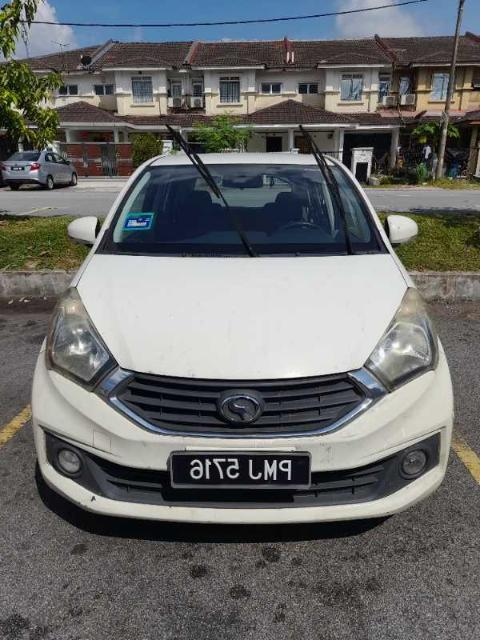License_Plate: (168, 451, 312, 491)
car: (31, 123, 456, 527), (2, 151, 79, 192)
